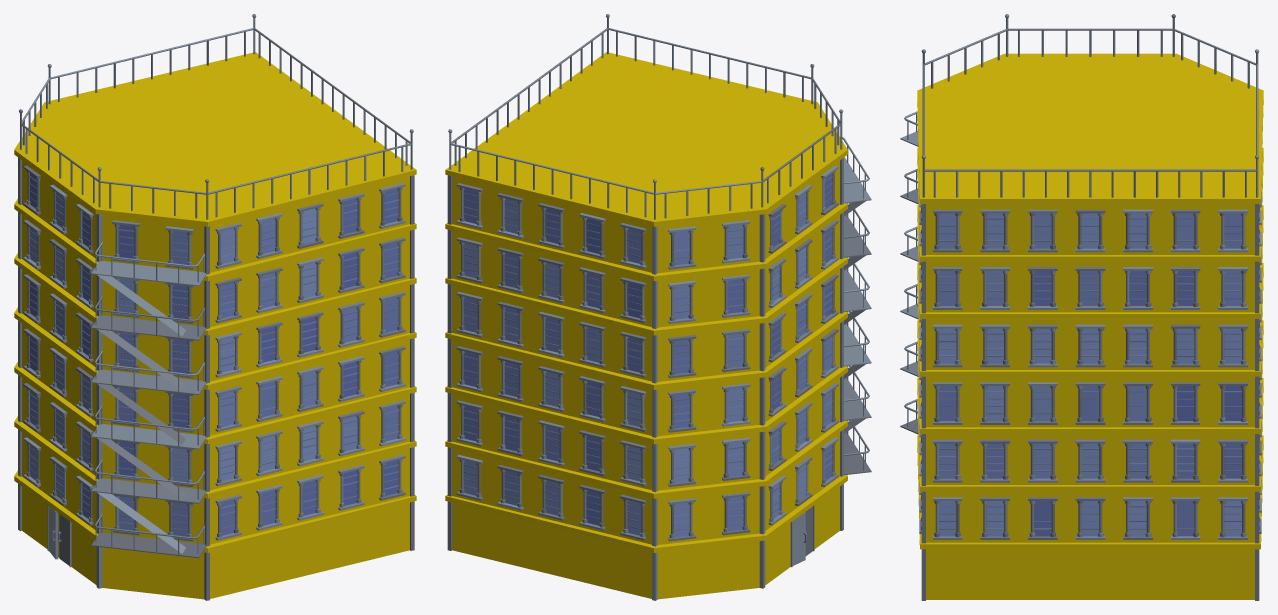
Rendered from Building Procedural.017.fbx.
3 renders of one model, left to right at view 1: azimuth 30°, elevation 25°; view 2: azimuth 150°, elevation 25°; view 3: azimuth 270°, elevation 25°, orthographic. The views are drawn at different scales.
Visible parts, largest first — view 1: Building Procedural.017; view 2: Building Procedural.017; view 3: Building Procedural.017.
Boxes of the visible parts, x1=… form: Building Procedural.017: x1=14, y1=14, x2=416, y2=600; Building Procedural.017: x1=445, y1=14, x2=871, y2=600; Building Procedural.017: x1=900, y1=14, x2=1263, y2=600.
Bounding box in the file's own units: 1626 × 2210 × 1636.
